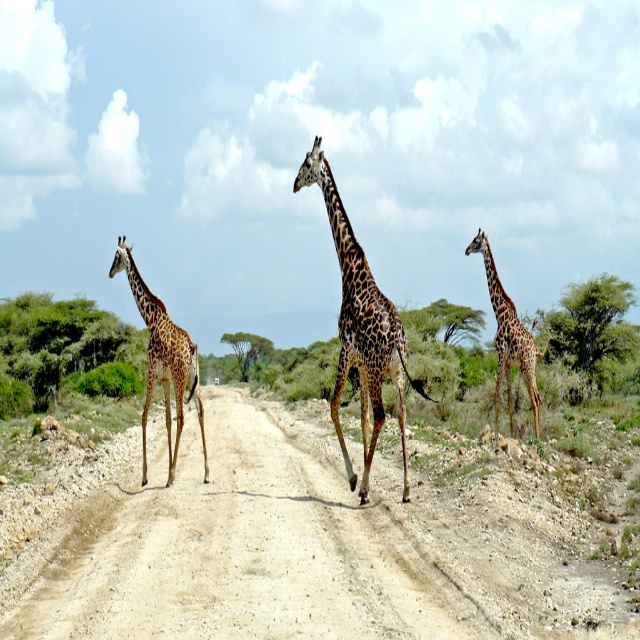Giraffe: (294, 132, 440, 506), (110, 230, 210, 486), (464, 227, 544, 442)
